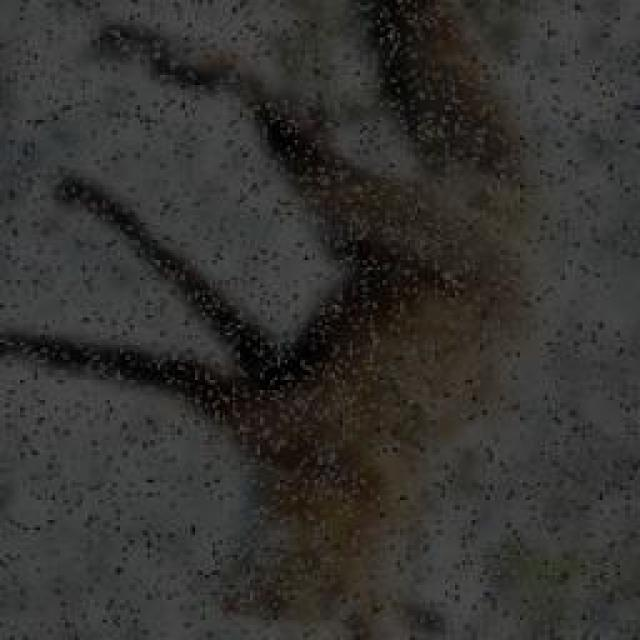Fox: (7, 0, 535, 626)
